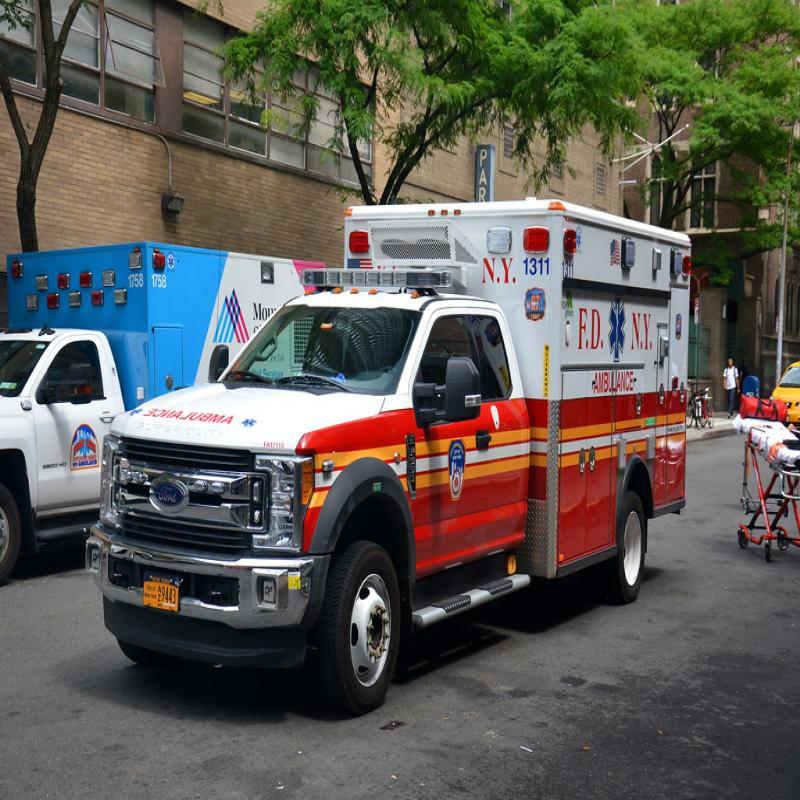ambulance: (144, 211, 684, 636)
